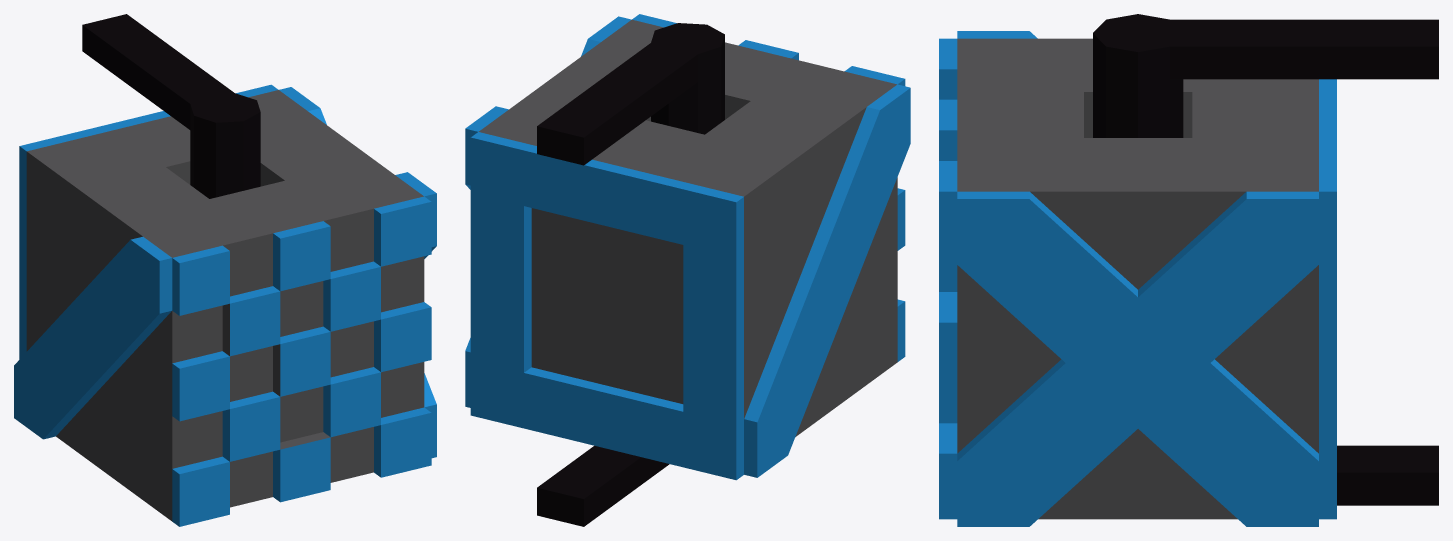
The model's file is PlaceholderRodillo.fbx.
The picture shows the model from 3 angles, left to right: view 1: azimuth 30°, elevation 25°; view 2: azimuth 150°, elevation 25°; view 3: azimuth 270°, elevation 25°; orthographic projection. The views are drawn at different scales.
Visible parts, largest first — view 1: Base, Eje; view 2: Base, Eje; view 3: Base, Eje.
Part boxes in pixels (x1,y1,x2,y2): Base: [14, 84, 436, 526]; Eje: [82, 14, 260, 198]; Base: [465, 14, 910, 480]; Eje: [537, 23, 724, 526]; Base: [939, 31, 1336, 526]; Eje: [1093, 14, 1438, 505].
Size of the model in its own units: 220 by 280 by 276.
